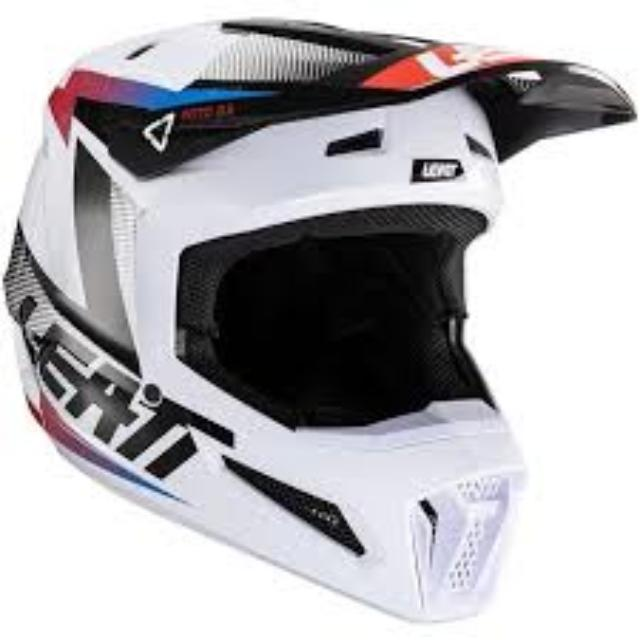motorcycle-helmets: (3, 20, 634, 617)
